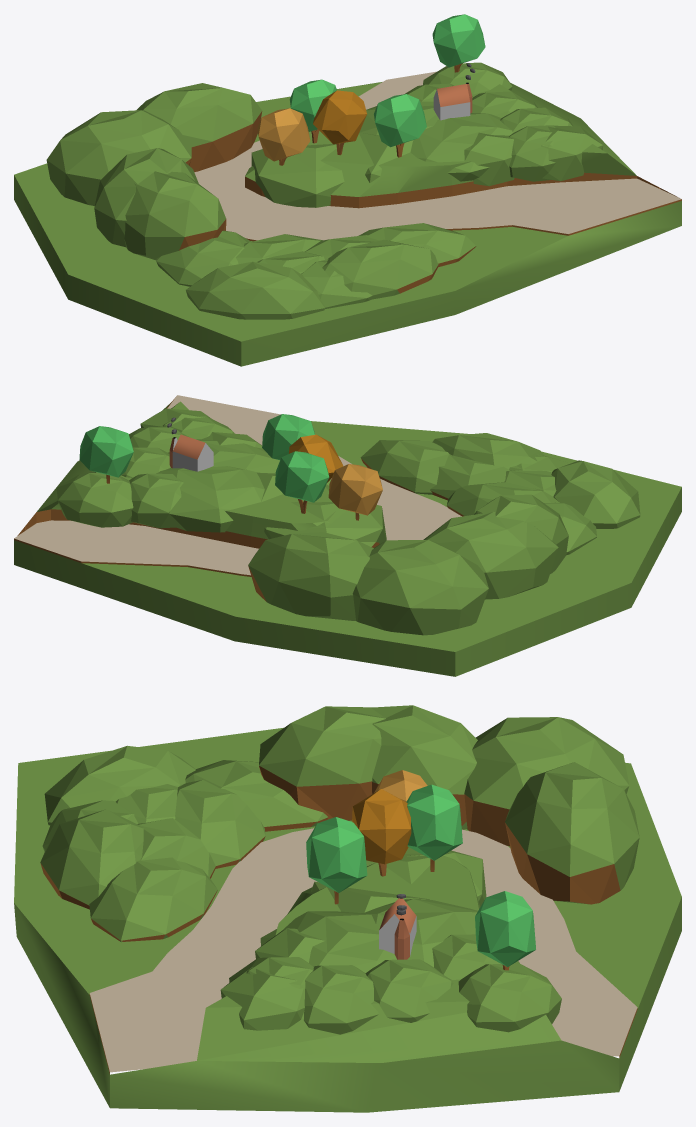
The model's file is Road Scene.glb.
The picture shows the model from 3 angles, top to bottom: view 1: azimuth 30°, elevation 25°; view 2: azimuth 150°, elevation 25°; view 3: azimuth 270°, elevation 25°; orthographic projection. The views are drawn at different scales.
Parts seen in each view (by area): view 1: GeoSphere022; view 2: GeoSphere022; view 3: GeoSphere022.
Boxes of the visible parts, x1,y1,x2,y2 form: GeoSphere022: [14, 14, 681, 366]; GeoSphere022: [14, 395, 681, 676]; GeoSphere022: [14, 705, 681, 1112].
Size of the model in its own units: 225 by 51.07 by 178.
